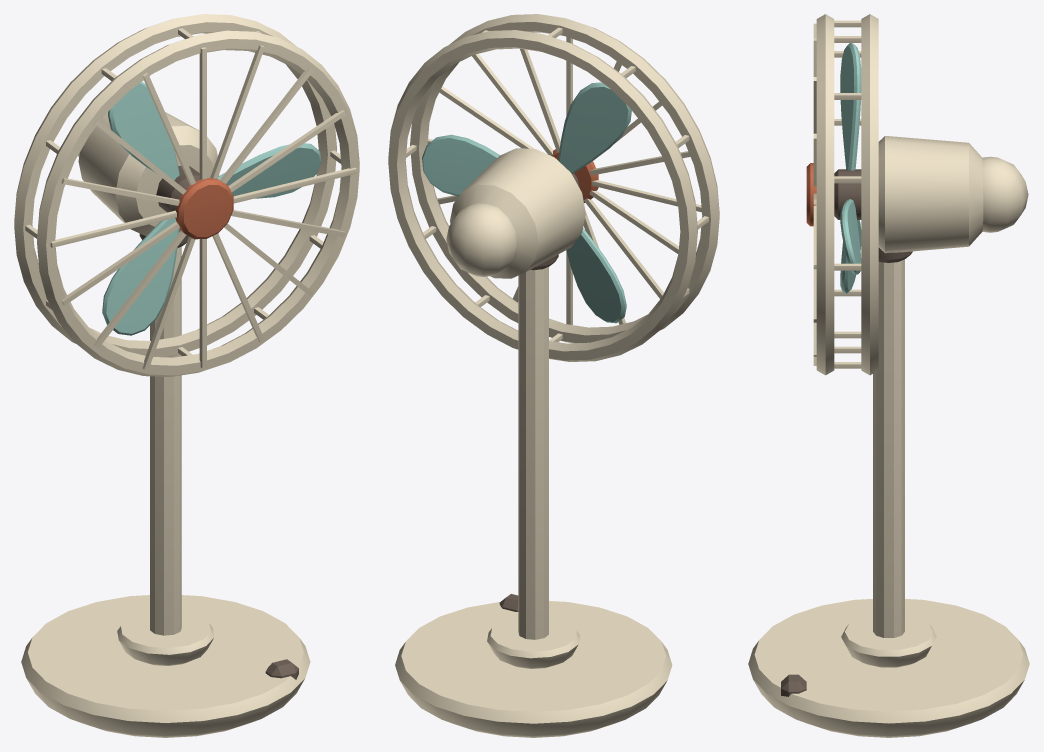
The model's file is ventilador.glb.
3 views of the same model, side by side, from view 1: azimuth 30°, elevation 25°; view 2: azimuth 150°, elevation 25°; view 3: azimuth 270°, elevation 25° (orthographic). The views are drawn at different scales.
Visible parts, largest first — view 1: grade, pe, pas; view 2: grade, pe, pas; view 3: pe, grade, pas.
Boxes of the visible parts, bbox=[...] form: grade: bbox=[14, 14, 359, 376]; pe: bbox=[21, 228, 310, 737]; pas: bbox=[102, 82, 321, 335]; grade: bbox=[388, 14, 719, 361]; pe: bbox=[395, 254, 672, 737]; pas: bbox=[422, 82, 631, 323]; pe: bbox=[748, 247, 1029, 737]; grade: bbox=[806, 14, 1028, 375]; pas: bbox=[834, 43, 861, 293].
Bounding box in the file's own units: 0.572 × 1.15 × 0.4439.
